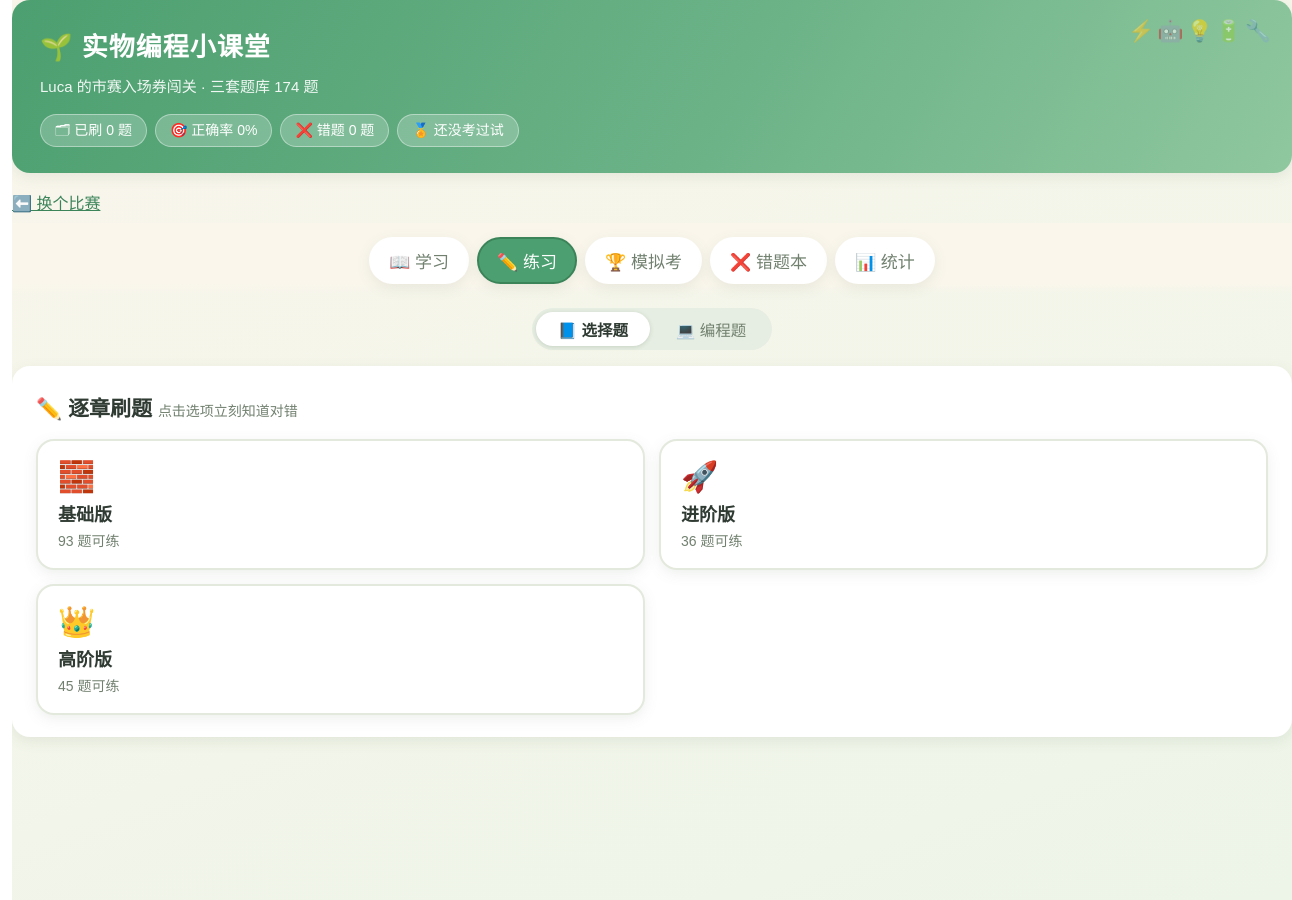
Test: AI 模块交互流 › 练习：选题库→选章节→答题→出现对错反馈
This screenshot has width=1292, height=900.
Click the button "🧱 基础版 93 题可练". click: point(77, 476)
box: [36,439,645,570]
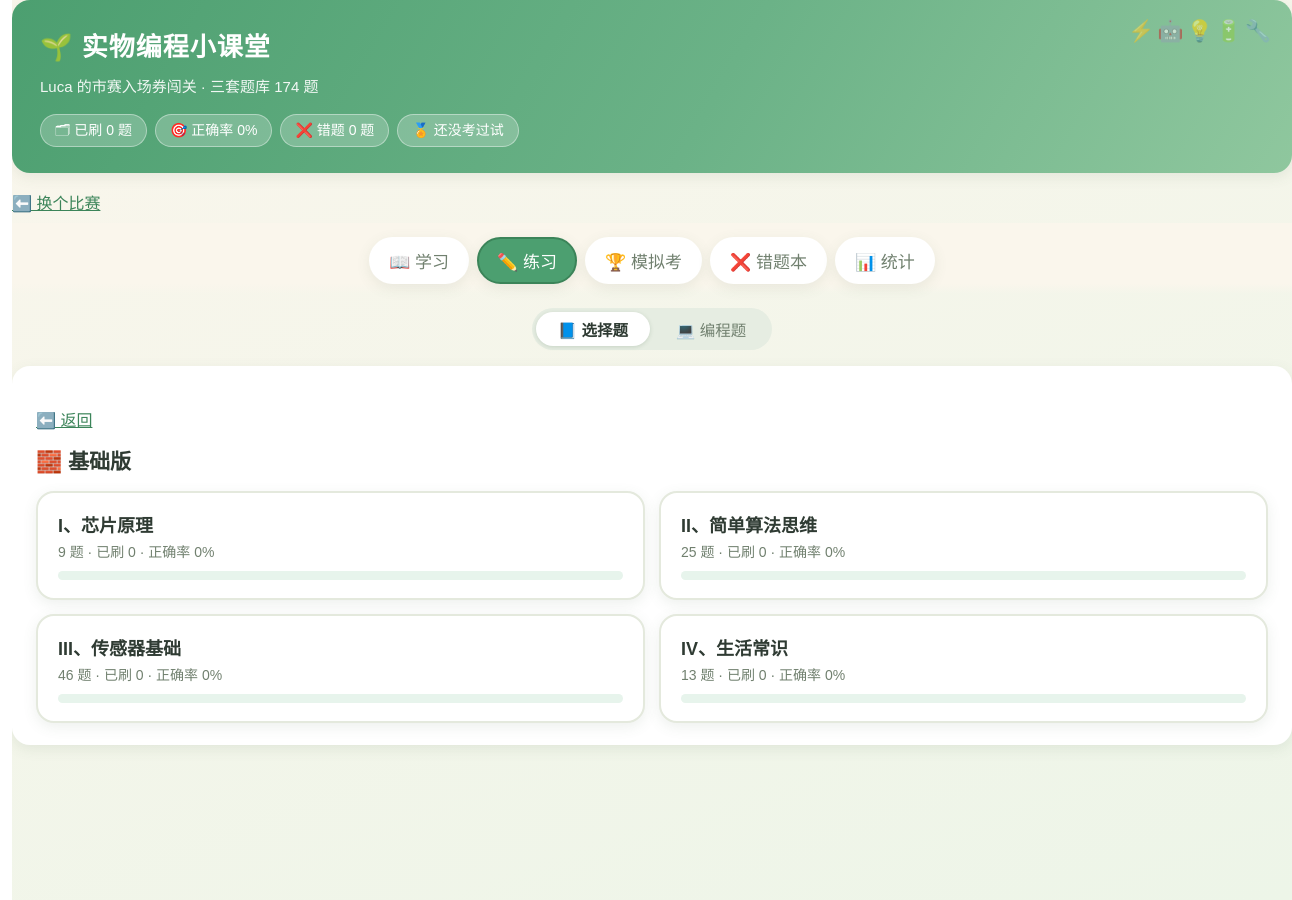
Click the button "I、芯片原理 9 题 · 已刷 0 · 正确率 0%". click: point(106, 526)
box: [36,491,645,600]
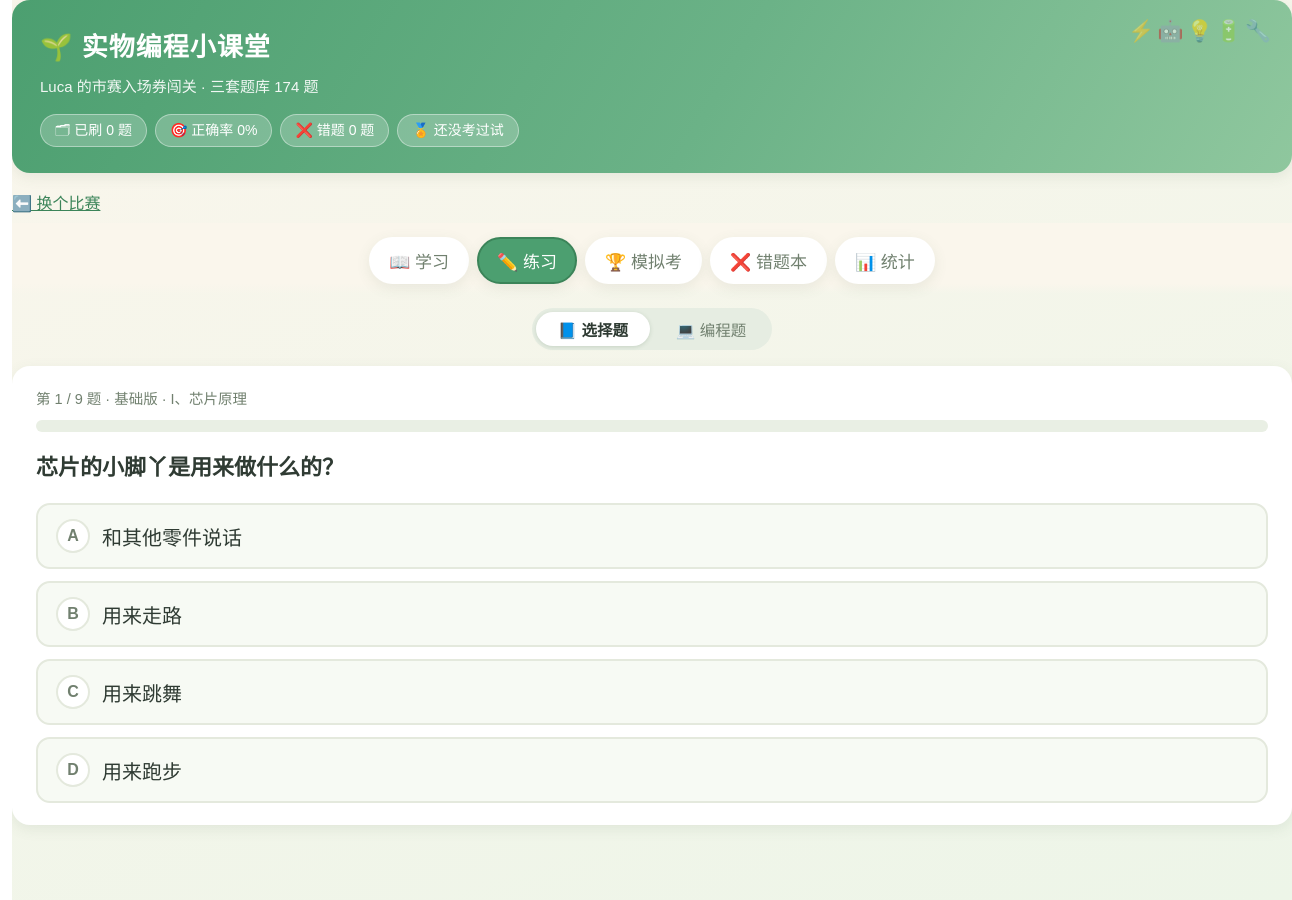
Expected: the button with class "opt" showing "A 和其他零件说话" is shown
Click the button with class "opt" showing "A 和其他零件说话". click: point(73, 536)
box: [36,503,1268,569]
(page scrolled)
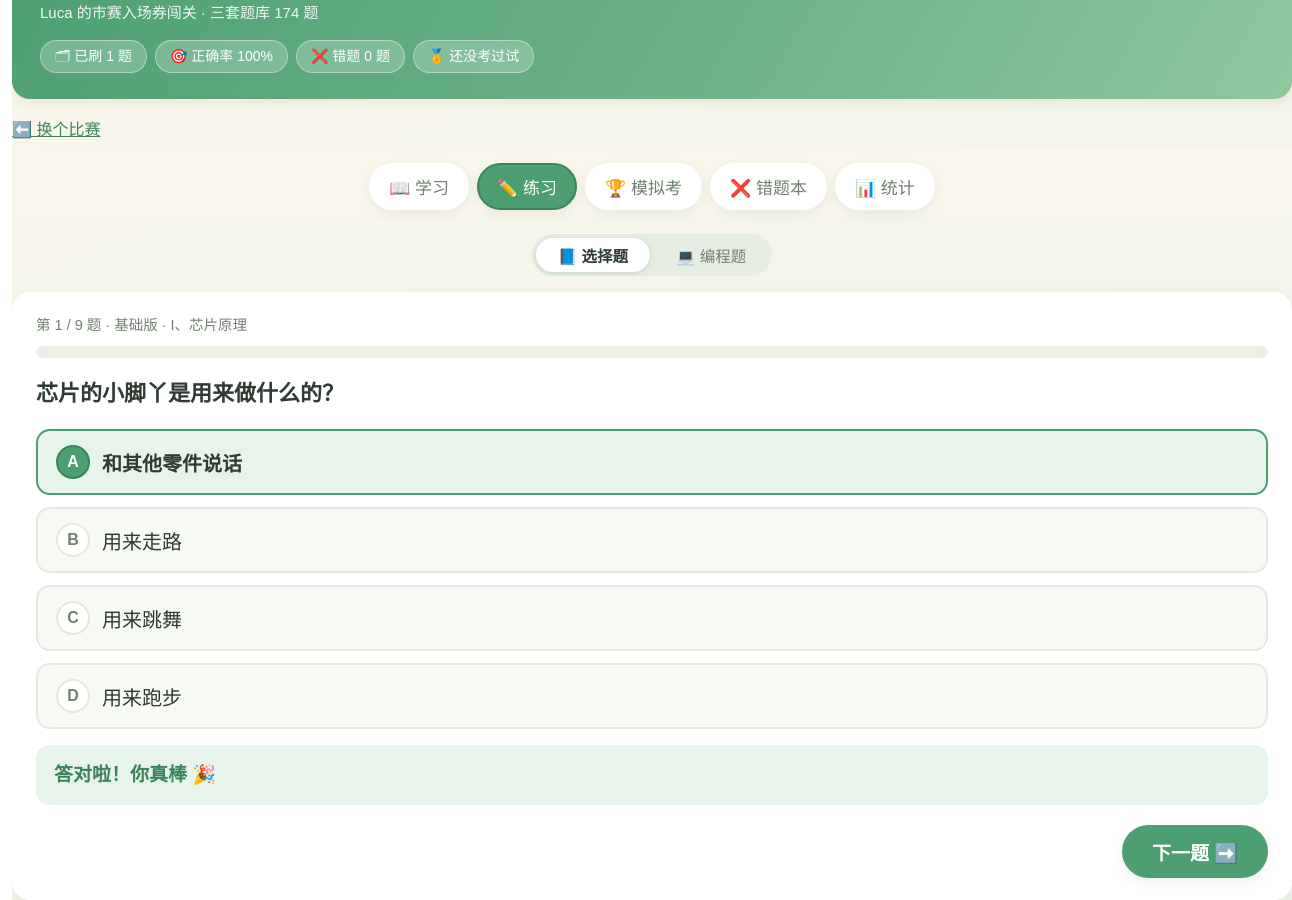
Expected: the text "答对啦！你真棒 🎉" is shown, [36,745,1268,804]
Click the button "下一题 ➡️". click: point(1195, 851)
box: [1122,825,1268,878]
(page scrolled)
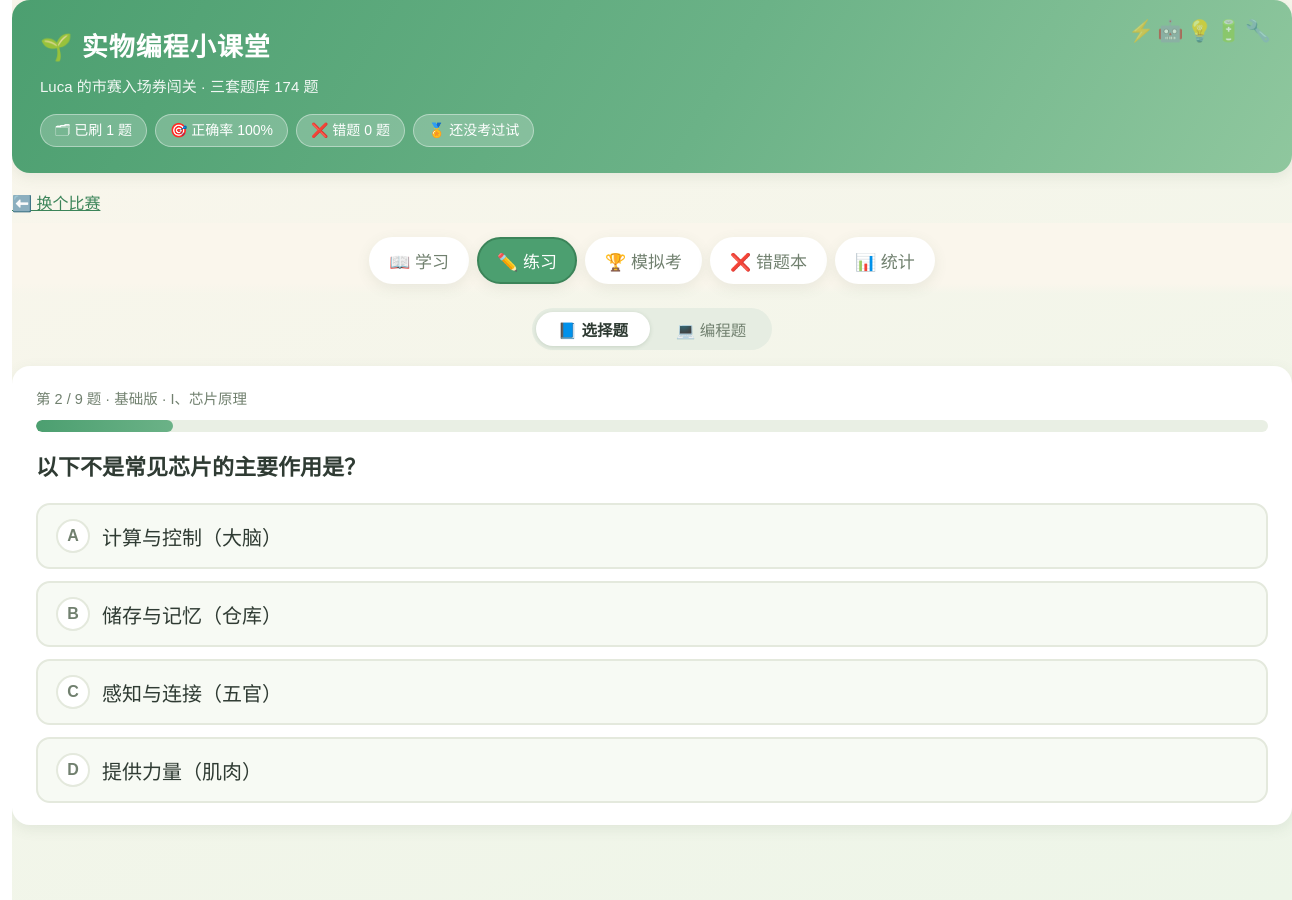
Expected: the text "答对啦！你真棒 🎉" is gone
